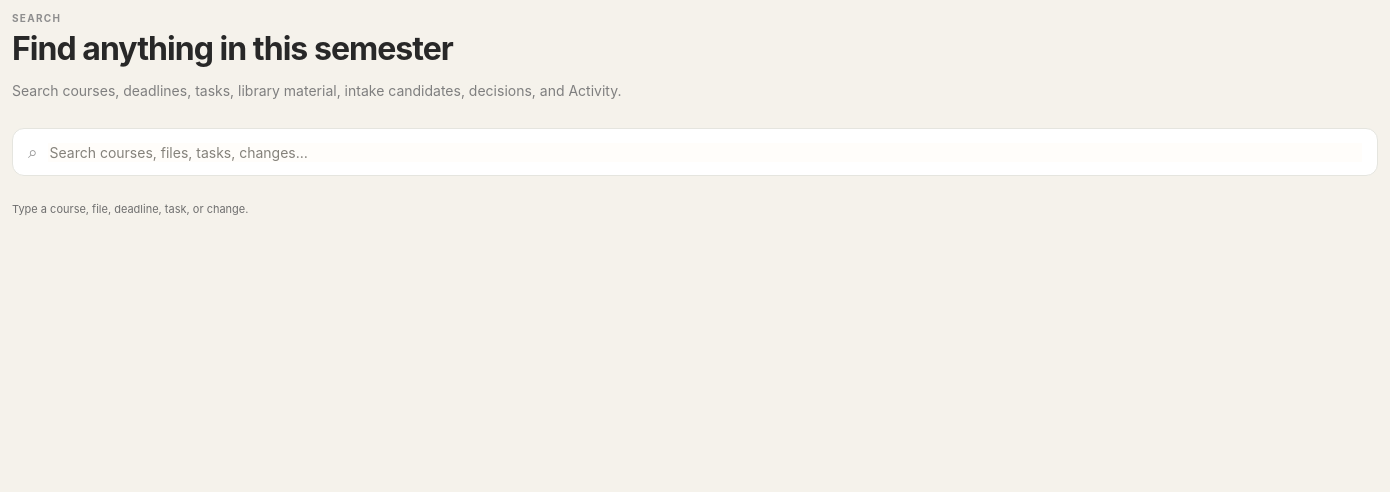
it: SearchView › finds tasks, courses, and library material and opens the right surface
This screenshot has width=1390, height=492.
Later steps or results of the test are not shown.
Type "Second Essay" into the field named "Search workspace". click: (705, 152)
box: left=48, top=143, right=1362, bottom=162
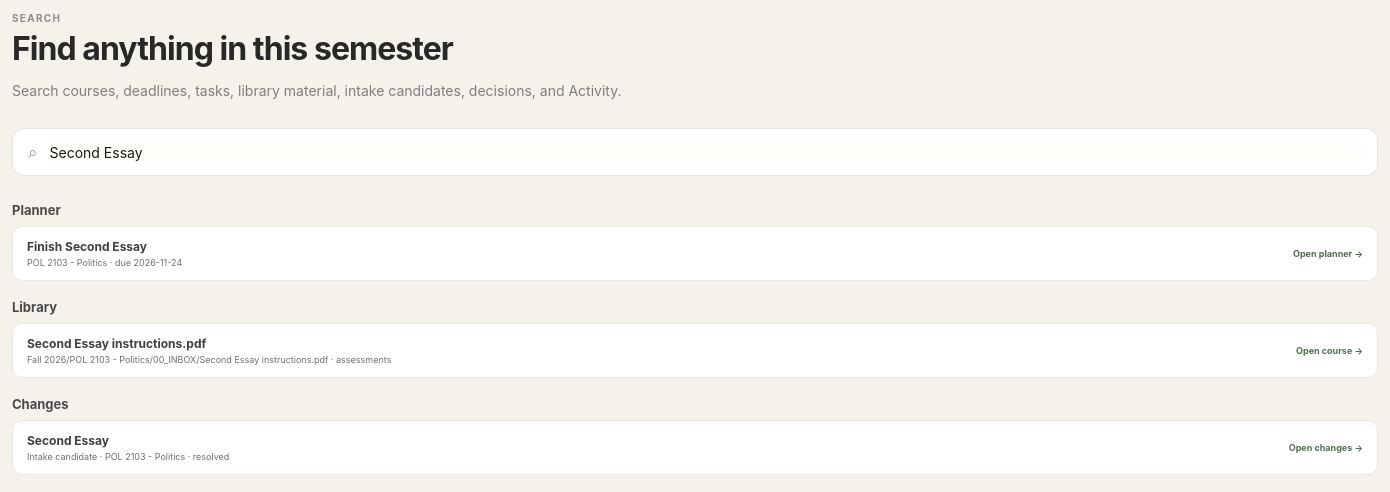
Result: the text "Finish Second Essay" is shown at left=27, top=239, right=147, bottom=254
Result: the text "Second Essay instructions.pdf" is shown at left=27, top=336, right=206, bottom=351
Result: the button "Open changes" is shown at left=12, top=420, right=1378, bottom=475
